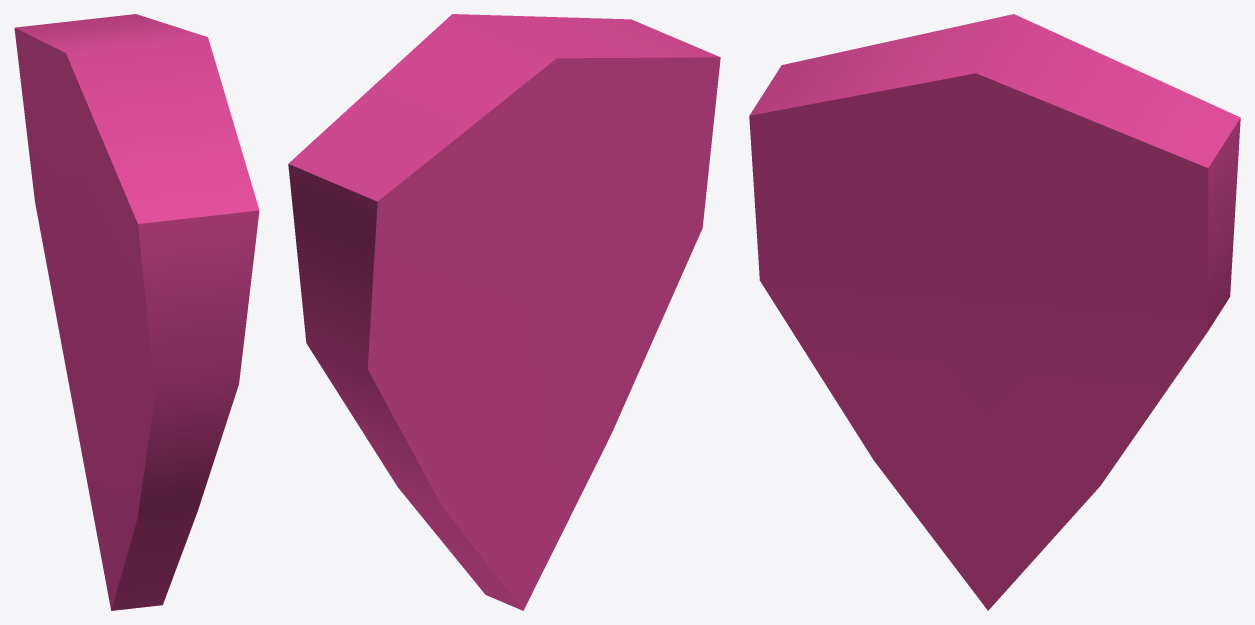
The model's file is marcador.glb.
The picture shows the model from 3 angles, left to right: view 1: azimuth 30°, elevation 25°; view 2: azimuth 150°, elevation 25°; view 3: azimuth 270°, elevation 25°; orthographic projection.
Parts seen in each view (by area): view 1: marcador_preocedural; view 2: marcador_preocedural; view 3: marcador_preocedural.
Part boxes in pixels (x1,y1,x2,y2): marcador_preocedural: (14,14,259,610); marcador_preocedural: (288,14,720,610); marcador_preocedural: (749,14,1240,610).
Bounding box in the file's own units: 3.21 × 8.07 × 6.46.
